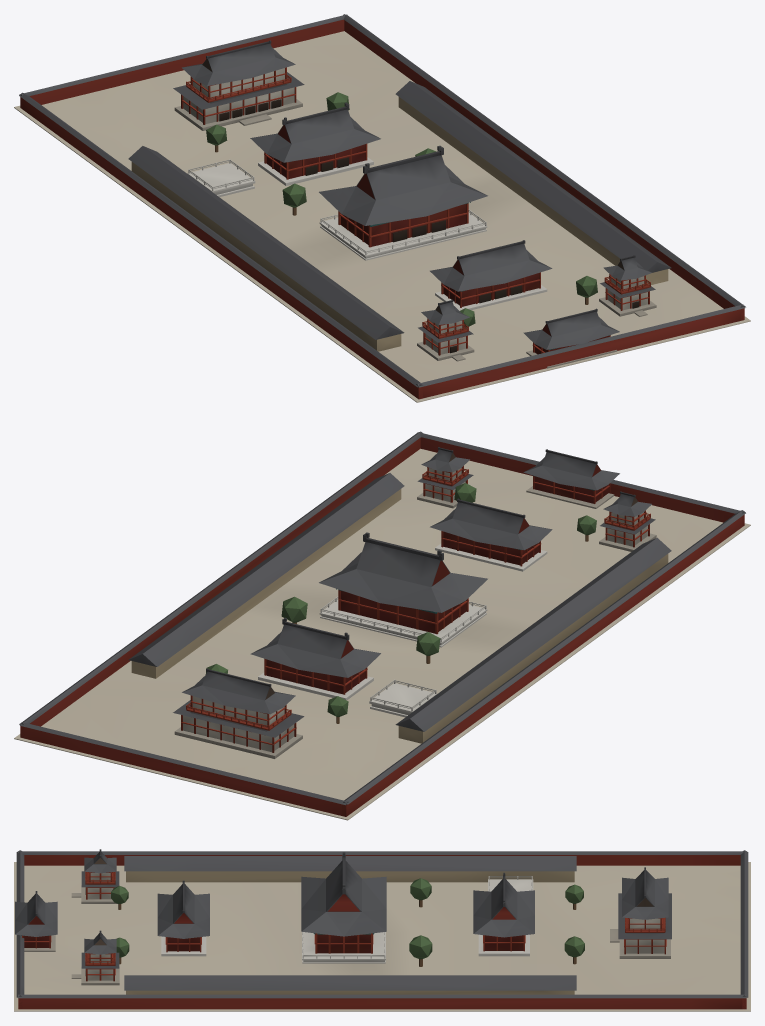
The model's file is guangji.glb.
The picture shows the model from 3 angles, top to bottom: view 1: azimuth 30°, elevation 25°; view 2: azimuth 150°, elevation 25°; view 3: azimuth 270°, elevation 25°; orthographic projection. The views are drawn at different scales.
Visible parts, largest first — view 1: p0_walls, p1_halls, p2_trees; view 2: p0_walls, p1_halls, p2_trees; view 3: p0_walls, p1_halls, p2_trees.
Boxes of the visible parts, bbox=[...] form: p0_walls: bbox=[14, 14, 750, 402]; p1_halls: bbox=[128, 67, 671, 368]; p2_trees: bbox=[173, 40, 655, 349]; p0_walls: bbox=[14, 431, 750, 820]; p1_halls: bbox=[128, 466, 671, 758]; p2_trees: bbox=[173, 447, 655, 737]; p0_walls: bbox=[14, 850, 750, 1011]; p1_halls: bbox=[21, 856, 670, 994]; p2_trees: bbox=[15, 849, 671, 968].
Bounding box in the file's own units: 110 × 23.67 × 230.
